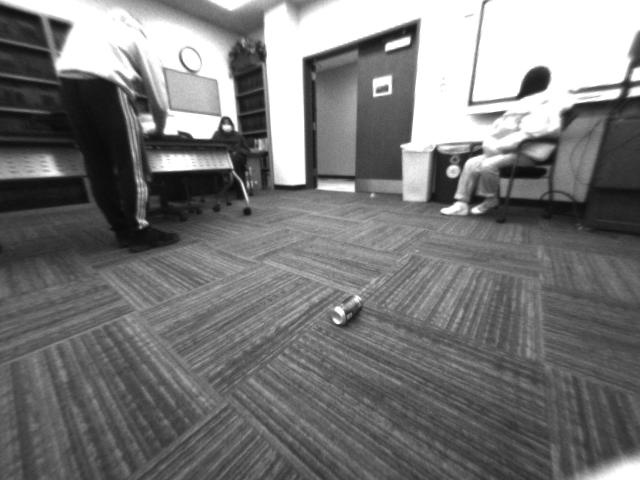can: (322, 287, 373, 329)
